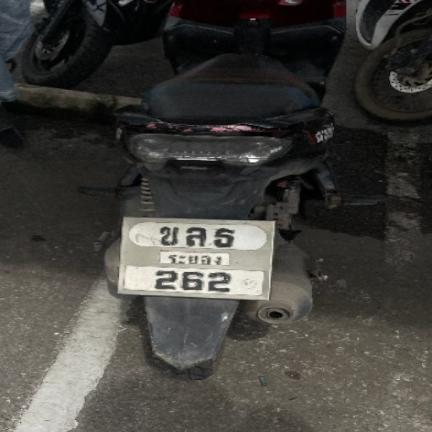2: (206, 270, 232, 292), (153, 269, 177, 291)
6: (180, 270, 206, 292)
A02: (158, 225, 179, 247)
A24: (211, 226, 237, 248)
A36: (182, 226, 207, 248)
RYG: (160, 251, 223, 266)
